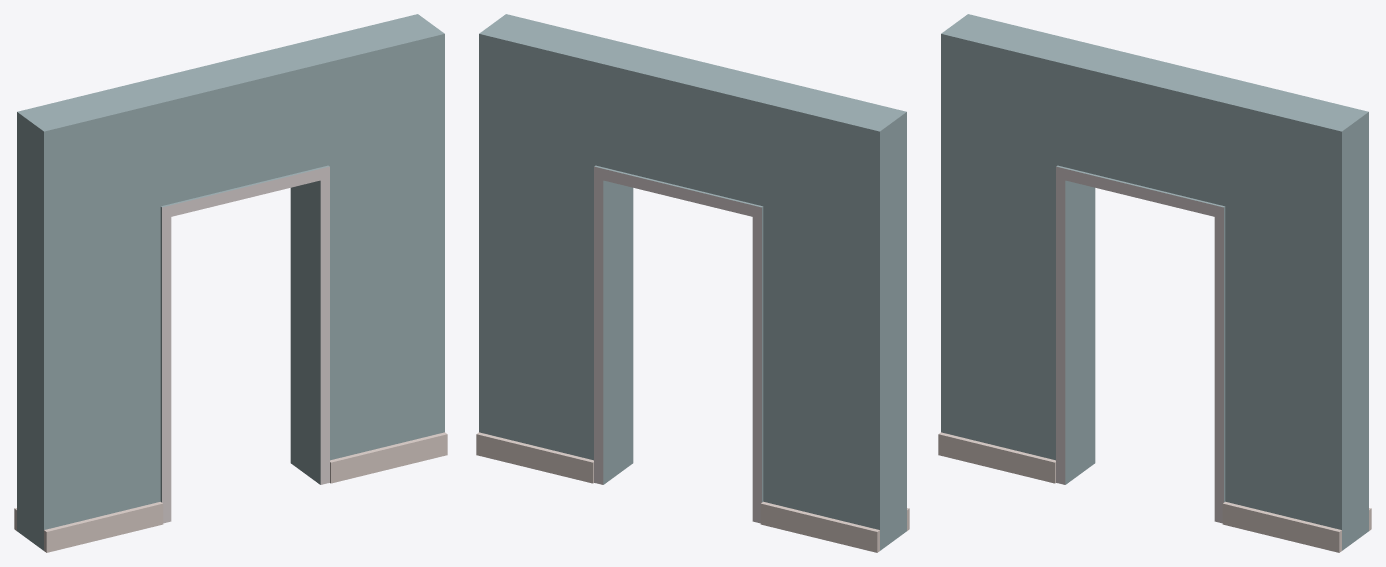
The model's file is DoorFrame.fbx.
3 views of the same model, side by side, from view 1: azimuth 30°, elevation 25°; view 2: azimuth 150°, elevation 25°; view 3: azimuth 330°, elevation 25° (orthographic).
Visible parts, largest first — view 1: DoorFrame; view 2: DoorFrame; view 3: DoorFrame.
Part boxes in pixels (bbox=[...]): DoorFrame: bbox=[14, 14, 447, 552]; DoorFrame: bbox=[476, 14, 909, 552]; DoorFrame: bbox=[938, 14, 1371, 552].
Bounding box in the file's own units: 2 × 0.278 × 2.
